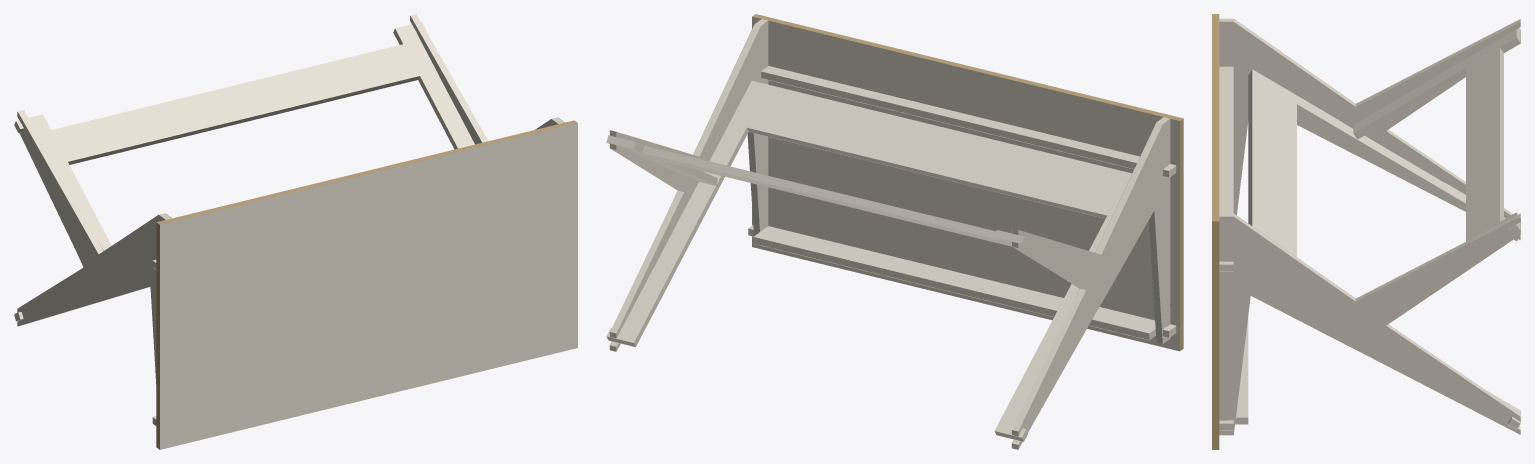
The model's file is NODO_ESCRITORIO_ESCULTORICO_KIRI_AR_PBR_V7.glb.
3 views of the same model, side by side, from view 1: azimuth 30°, elevation 25°; view 2: azimuth 150°, elevation 25°; view 3: azimuth 270°, elevation 25° (orthographic). The views are drawn at different scales.
Parts seen in each view (by area): view 1: G_Tapa_Superior_CARAS_COLOR_REAL, B_Escuadra_Trasera_PIEL_LISA_1, D_Lateral_Izq_PIEL_LISA_-1, G_Tapa_Superior_CANTO_MDF, B_Escuadra_Trasera_canto, D_Lateral_Izq_cuerpo, D_Lateral_Izq_canto, C_Lateral_Der_canto, C_Lateral_Der_PIEL_LISA_-1; view 2: G_Tapa_Superior_CARAS_COLOR_REAL, A_Escuadra_Delantera_PIEL_LISA_1, D_Lateral_Izq_PIEL_LISA_-1, F_Traba_Delantera_PIEL_LISA_1, A_Escuadra_Delantera_cuerpo, C_Lateral_Der_PIEL_LISA_-1, B_Escuadra_Trasera_canto, D_Lateral_Izq_canto, C_Lateral_Der_canto, E_Traba_Trasera_PIEL_LISA_1, E_Traba_Trasera_canto, F_Traba_Delantera_canto (+5 smaller); view 3: C_Lateral_Der_PIEL_LISA_1, D_Lateral_Izq_PIEL_LISA_1, A_Escuadra_Delantera_PIEL_LISA_1, B_Escuadra_Trasera_PIEL_LISA_1, G_Tapa_Superior_CANTO_MDF, C_Lateral_Der_cuerpo, A_Escuadra_Delantera_canto, E_Traba_Trasera_PIEL_LISA_1, D_Lateral_Izq_cuerpo, B_Escuadra_Trasera_canto, C_Lateral_Der_canto, A_Escuadra_Delantera_cuerpo (+3 smaller).
Boxes of the visible parts, x1=… form: G_Tapa_Superior_CARAS_COLOR_REAL: x1=160, y1=123, x2=577, y2=449; B_Escuadra_Trasera_PIEL_LISA_1: x1=16, y1=22, x2=474, y2=250; D_Lateral_Izq_PIEL_LISA_-1: x1=17, y1=112, x2=164, y2=330; G_Tapa_Superior_CANTO_MDF: x1=156, y1=120, x2=577, y2=449; B_Escuadra_Trasera_canto: x1=14, y1=29, x2=457, y2=164; D_Lateral_Izq_cuerpo: x1=17, y1=112, x2=165, y2=383; D_Lateral_Izq_canto: x1=18, y1=110, x2=171, y2=325; C_Lateral_Der_canto: x1=410, y1=14, x2=564, y2=142; C_Lateral_Der_PIEL_LISA_-1: x1=410, y1=16, x2=557, y2=144; G_Tapa_Superior_CARAS_COLOR_REAL: x1=752, y1=16, x2=1179, y2=351; A_Escuadra_Delantera_PIEL_LISA_1: x1=606, y1=80, x2=1131, y2=437; D_Lateral_Izq_PIEL_LISA_-1: x1=1018, y1=119, x2=1170, y2=448; F_Traba_Delantera_PIEL_LISA_1: x1=749, y1=225, x2=1175, y2=332; A_Escuadra_Delantera_cuerpo: x1=607, y1=127, x2=1106, y2=437; C_Lateral_Der_PIEL_LISA_-1: x1=616, y1=21, x2=768, y2=350; B_Escuadra_Trasera_canto: x1=606, y1=135, x2=1027, y2=245; D_Lateral_Izq_canto: x1=1012, y1=117, x2=1169, y2=449; C_Lateral_Der_canto: x1=610, y1=19, x2=767, y2=351; E_Traba_Trasera_PIEL_LISA_1: x1=761, y1=66, x2=1175, y2=170; E_Traba_Trasera_canto: x1=761, y1=71, x2=1176, y2=177; F_Traba_Delantera_canto: x1=748, y1=228, x2=1176, y2=339; C_Lateral_Der_PIEL_LISA_1: x1=1219, y1=216, x2=1520, y2=435; D_Lateral_Izq_PIEL_LISA_1: x1=1219, y1=22, x2=1520, y2=239; A_Escuadra_Delantera_PIEL_LISA_1: x1=1252, y1=69, x2=1520, y2=423; B_Escuadra_Trasera_PIEL_LISA_1: x1=1353, y1=29, x2=1516, y2=241; G_Tapa_Superior_CANTO_MDF: x1=1212, y1=14, x2=1219, y2=449; C_Lateral_Der_cuerpo: x1=1219, y1=217, x2=1520, y2=434; A_Escuadra_Delantera_canto: x1=1248, y1=70, x2=1520, y2=428; E_Traba_Trasera_PIEL_LISA_1: x1=1219, y1=66, x2=1233, y2=264; D_Lateral_Izq_cuerpo: x1=1219, y1=21, x2=1520, y2=239; B_Escuadra_Trasera_canto: x1=1354, y1=28, x2=1520, y2=235; C_Lateral_Der_canto: x1=1219, y1=213, x2=1520, y2=429; A_Escuadra_Delantera_cuerpo: x1=1252, y1=70, x2=1520, y2=423.
Size of what is drawn, in the model's own units: 1.22 by 0.628 by 0.7686.
